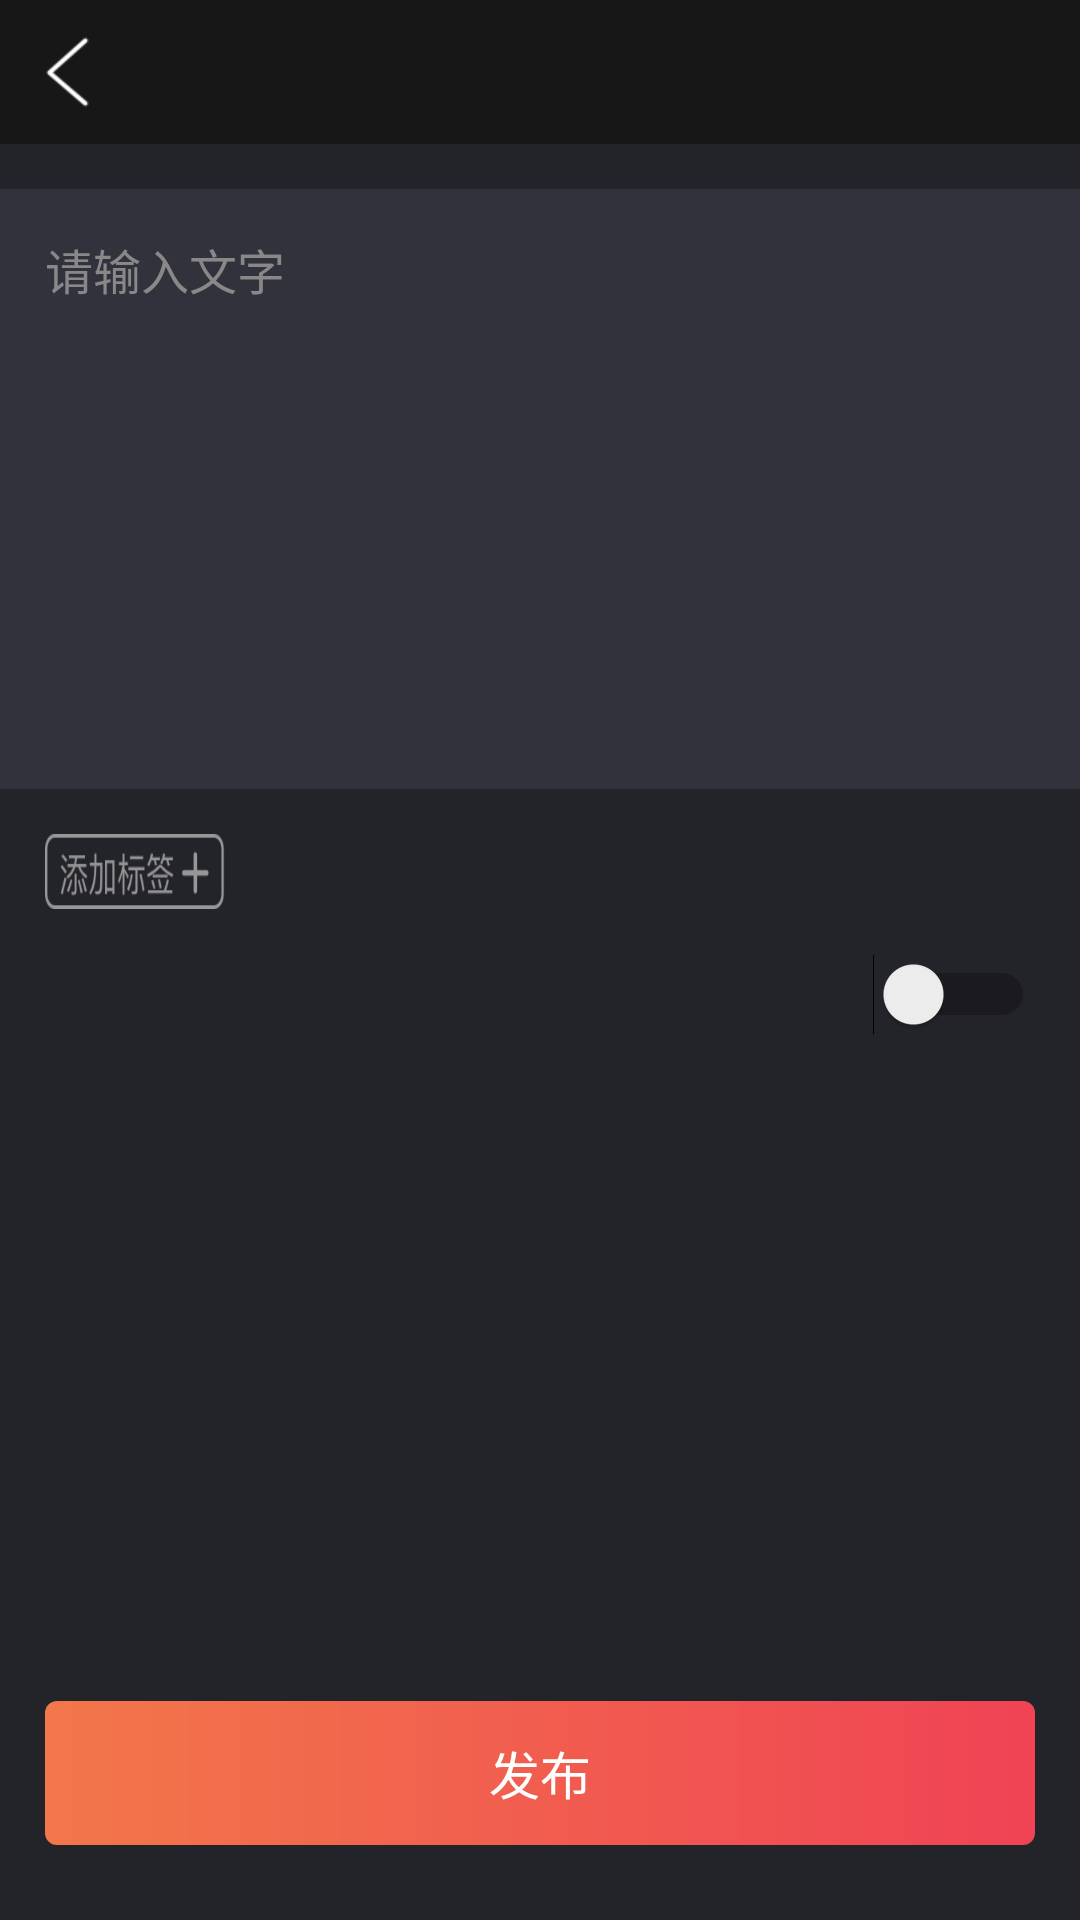

Icons on this 1080×1920 Android screen, each with the point to tap as (x,y):
titlebar back: (67,72)
